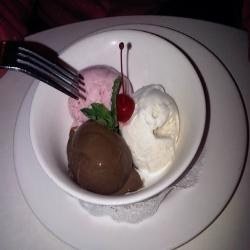icecream: (64, 119, 145, 201), (118, 86, 188, 166), (63, 66, 141, 130)
